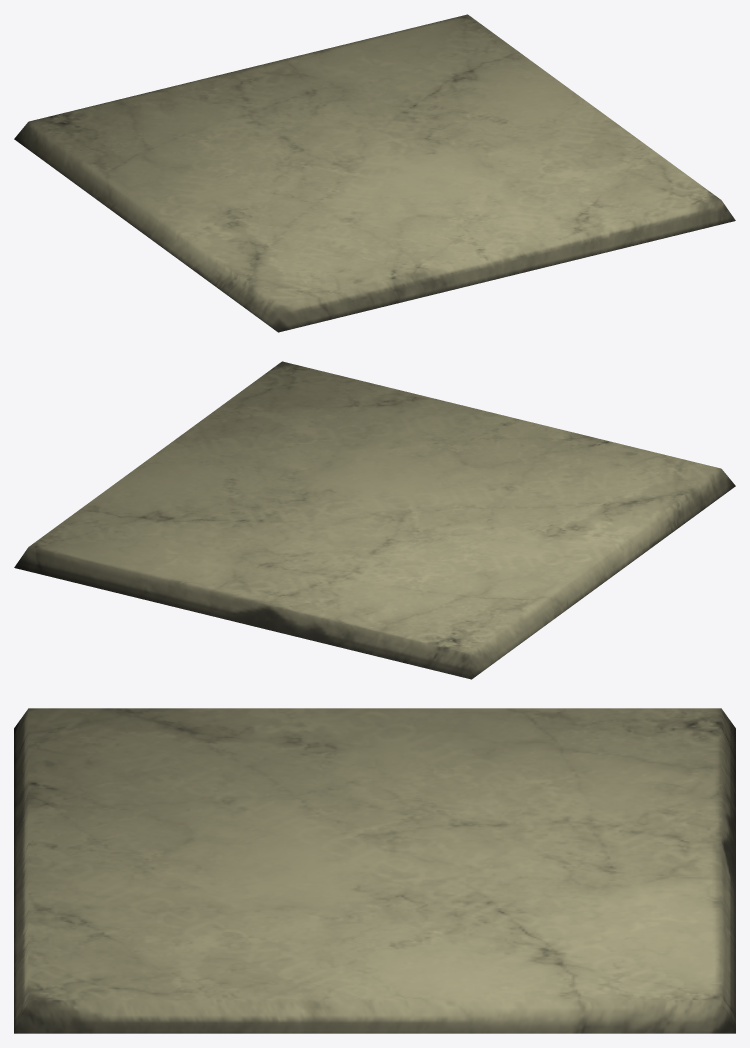
Rendered from 4x4white.FBX.
3 views of the same model, one above another, from view 1: azimuth 30°, elevation 25°; view 2: azimuth 150°, elevation 25°; view 3: azimuth 270°, elevation 25° (orthographic). The views are drawn at different scales.
Parts seen in each view (by area): view 1: Object004; view 2: Object004; view 3: Object004.
Part boxes in pixels (bbox=[...]): Object004: bbox=[14, 14, 735, 332]; Object004: bbox=[14, 361, 735, 679]; Object004: bbox=[14, 708, 735, 1033].
Bounding box in the file's own units: 25 × 1 × 25.
